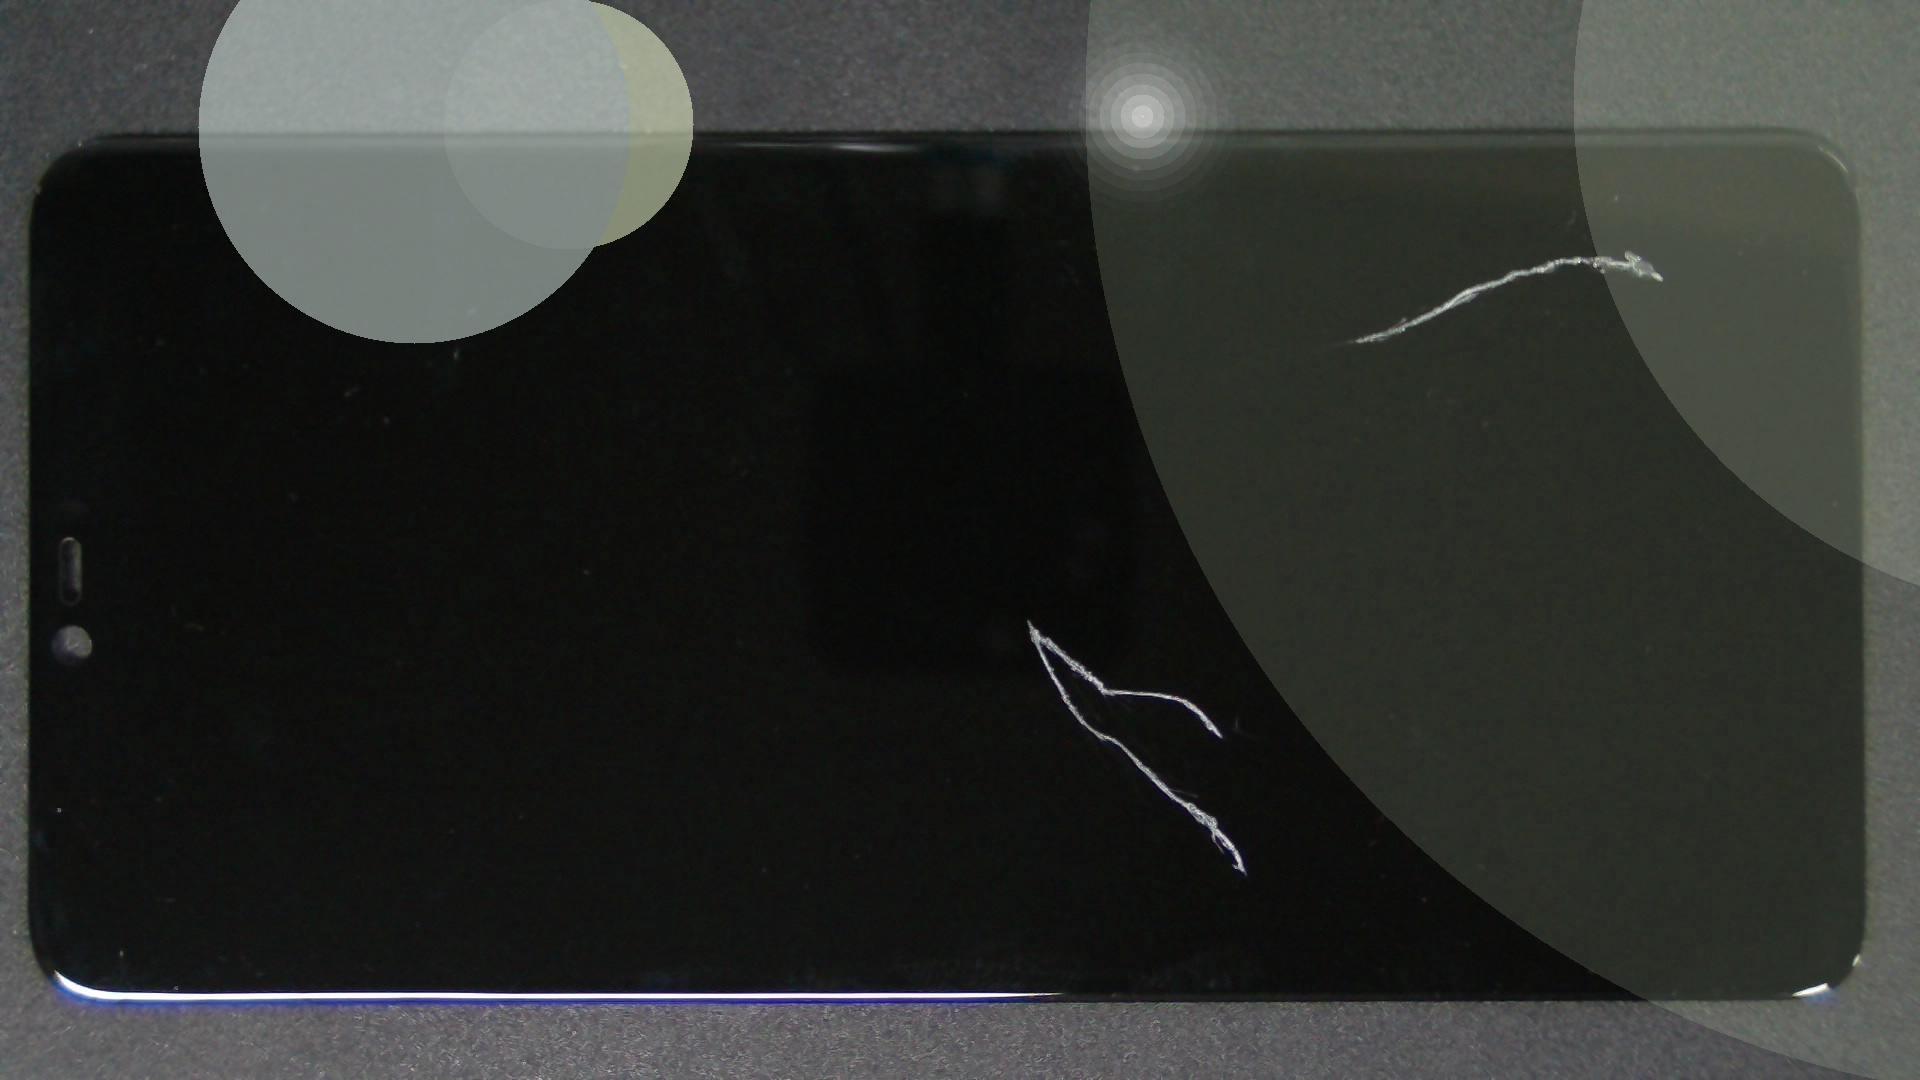oil: (513, 309, 1540, 928), (814, 124, 1920, 376)
